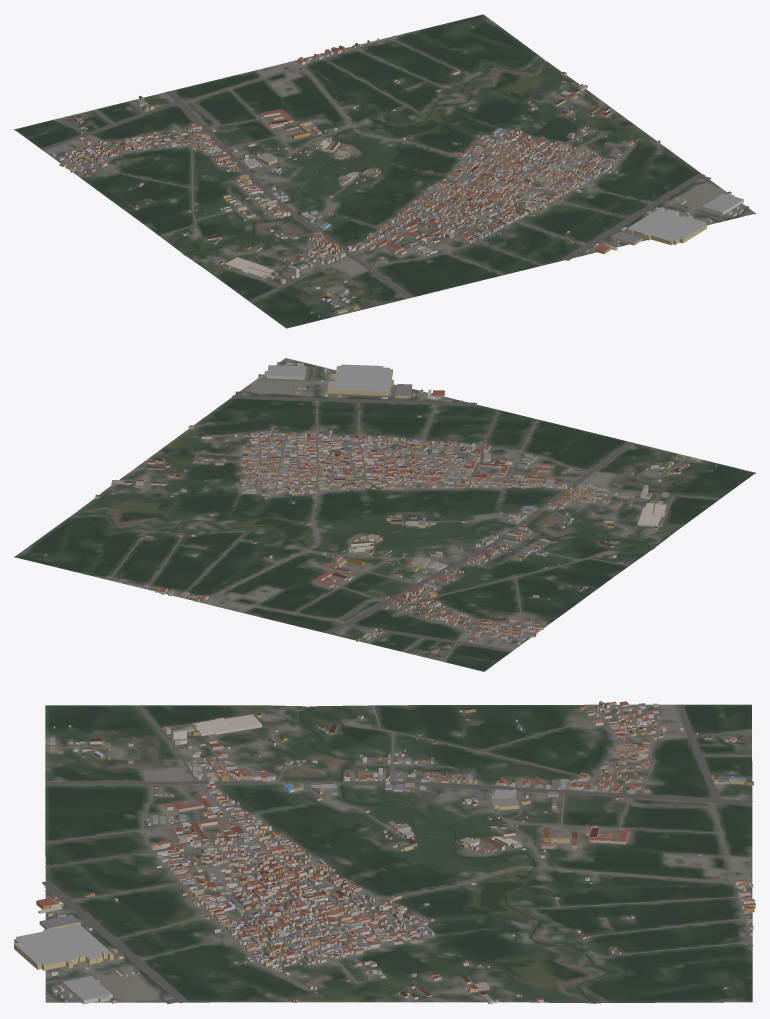
The picture shows the model from 3 angles, top to bottom: view 1: azimuth 30°, elevation 25°; view 2: azimuth 150°, elevation 25°; view 3: azimuth 270°, elevation 25°; orthographic projection. The views are drawn at different scales.
Visible parts, largest first — view 1: ground, buildings, roads, water; view 2: ground, buildings, roads, water; view 3: ground, buildings, roads, water.
Part boxes in pixels (x1=…): ground: x1=14, y1=14, x2=755, y2=328; buildings: x1=51, y1=25, x2=749, y2=317; roads: x1=41, y1=35, x2=753, y2=312; water: x1=184, y1=59, x2=601, y2=255; ground: x1=14, y1=358, x2=755, y2=671; buildings: x1=45, y1=361, x2=716, y2=653; roads: x1=101, y1=359, x2=719, y2=661; water: x1=74, y1=459, x2=653, y2=551; ground: x1=45, y1=704, x2=752, y2=1003; buildings: x1=14, y1=701, x2=755, y2=1004; roads: x1=41, y1=704, x2=753, y2=1003; water: x1=299, y1=706, x2=610, y2=1003.
Size of the model in its own units: 1417 by 32.17 by 1472.
